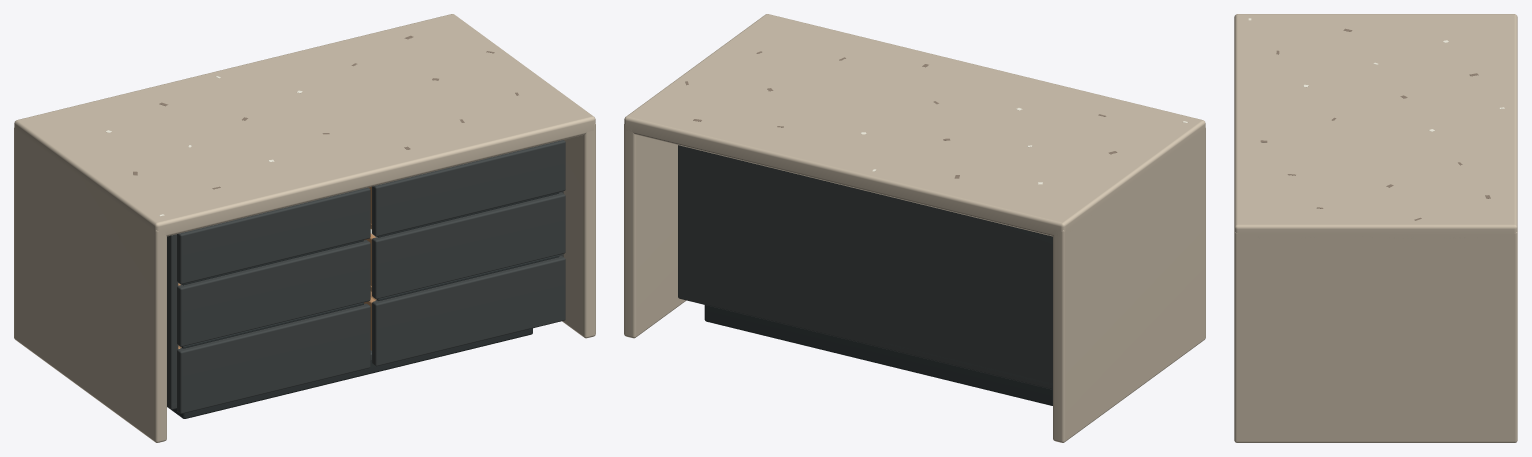
The model's file is kitchenModernIslandCharcoal.glb.
3 renders of one model, left to right at view 1: azimuth 30°, elevation 25°; view 2: azimuth 150°, elevation 25°; view 3: azimuth 270°, elevation 25°, orthographic.
Visible parts, largest first — view 1: Thick stone worktop, Stone waterfall end panel, Handleless island drawer.002, Handleless island drawer.005, Handleless island drawer.004, Handleless island drawer.001, Handleless island drawer, Handleless island drawer.003, Stone waterfall end panel.001, Recessed island plinth, Storage inner side; view 2: Thick stone worktop, Storage inner back, Stone waterfall end panel, Stone waterfall end panel.001, Recessed island plinth; view 3: Thick stone worktop, Stone waterfall end panel.001.
Part boxes in pixels (left/top/right/bottom): Thick stone worktop: left=14, top=14, right=595, bottom=236; Stone waterfall end panel: left=14, top=127, right=166, bottom=442; Handleless island drawer.002: left=177, top=303, right=370, bottom=413; Handleless island drawer.005: left=372, top=256, right=565, bottom=366; Handleless island drawer.004: left=372, top=192, right=565, bottom=299; Handleless island drawer.001: left=177, top=240, right=370, bottom=346; Handleless island drawer: left=177, top=187, right=370, bottom=284; Handleless island drawer.003: left=372, top=140, right=565, bottom=236; Stone waterfall end panel.001: left=562, top=123, right=595, bottom=338; Recessed island plinth: left=167, top=328, right=532, bottom=418; Storage inner side: left=167, top=234, right=178, bottom=408; Thick stone worktop: left=624, top=14, right=1205, bottom=236; Storage inner back: left=678, top=145, right=1052, bottom=389; Stone waterfall end panel: left=1053, top=127, right=1205, bottom=442; Stone waterfall end panel.001: left=624, top=123, right=686, bottom=338; Recessed island plinth: left=704, top=305, right=1052, bottom=405; Thick stone worktop: left=1234, top=14, right=1517, bottom=238; Stone waterfall end panel.001: left=1234, top=232, right=1517, bottom=442.
Bounding box in the file's own units: 2.58 × 1.23 × 1.45.
